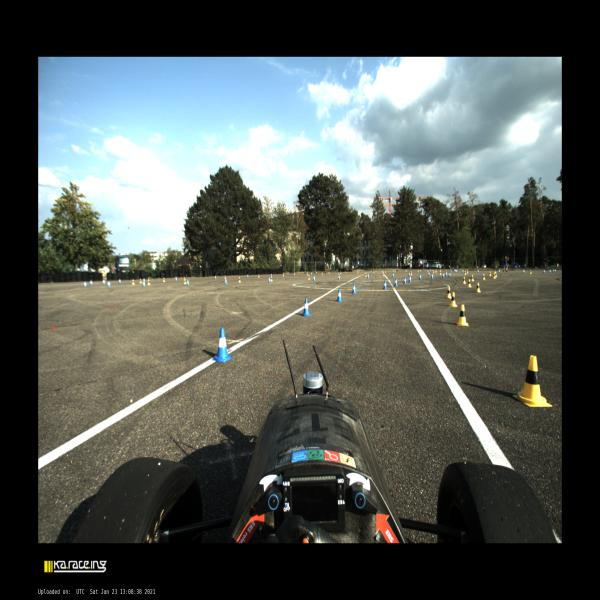blue_cone: (214, 328, 232, 362), (302, 298, 311, 316), (337, 289, 342, 302), (383, 280, 387, 290), (352, 283, 356, 293), (142, 279, 146, 286), (394, 279, 398, 286), (186, 279, 190, 286), (409, 275, 412, 282), (107, 281, 110, 287), (268, 277, 271, 283), (404, 277, 406, 284), (84, 281, 86, 287), (90, 280, 92, 286), (225, 279, 227, 285), (313, 275, 315, 281), (338, 274, 340, 280), (419, 274, 421, 279), (367, 273, 369, 278), (442, 273, 444, 278), (448, 272, 450, 277), (103, 280, 105, 284), (119, 279, 121, 283), (392, 273, 394, 277), (431, 274, 433, 278), (445, 272, 447, 276), (428, 272, 430, 276), (176, 276, 178, 280), (523, 269, 525, 273), (543, 269, 545, 273), (549, 269, 551, 273), (477, 269, 479, 273), (553, 268, 555, 272), (247, 274, 249, 277), (215, 275, 216, 279), (270, 274, 272, 276), (462, 270, 464, 272), (294, 272, 295, 276), (345, 271, 346, 274)
yellow_cone: (513, 356, 552, 407), (457, 305, 468, 326), (450, 292, 457, 307), (445, 286, 452, 298), (476, 282, 480, 292), (468, 278, 471, 288), (471, 274, 474, 282), (482, 274, 486, 280), (463, 277, 466, 284), (139, 278, 142, 284), (238, 277, 241, 283), (364, 272, 367, 278), (493, 273, 496, 279), (148, 277, 150, 285), (270, 277, 273, 282), (464, 270, 467, 275), (132, 279, 134, 285), (184, 279, 186, 285), (439, 271, 442, 275), (163, 277, 165, 282), (308, 275, 310, 280), (489, 271, 491, 276), (495, 272, 497, 277), (410, 271, 412, 275), (258, 274, 260, 278), (530, 270, 532, 274), (383, 272, 385, 276), (357, 270, 359, 274), (321, 272, 323, 275), (225, 275, 226, 279), (283, 273, 284, 276), (467, 270, 468, 273), (433, 270, 434, 273), (340, 272, 341, 274)
